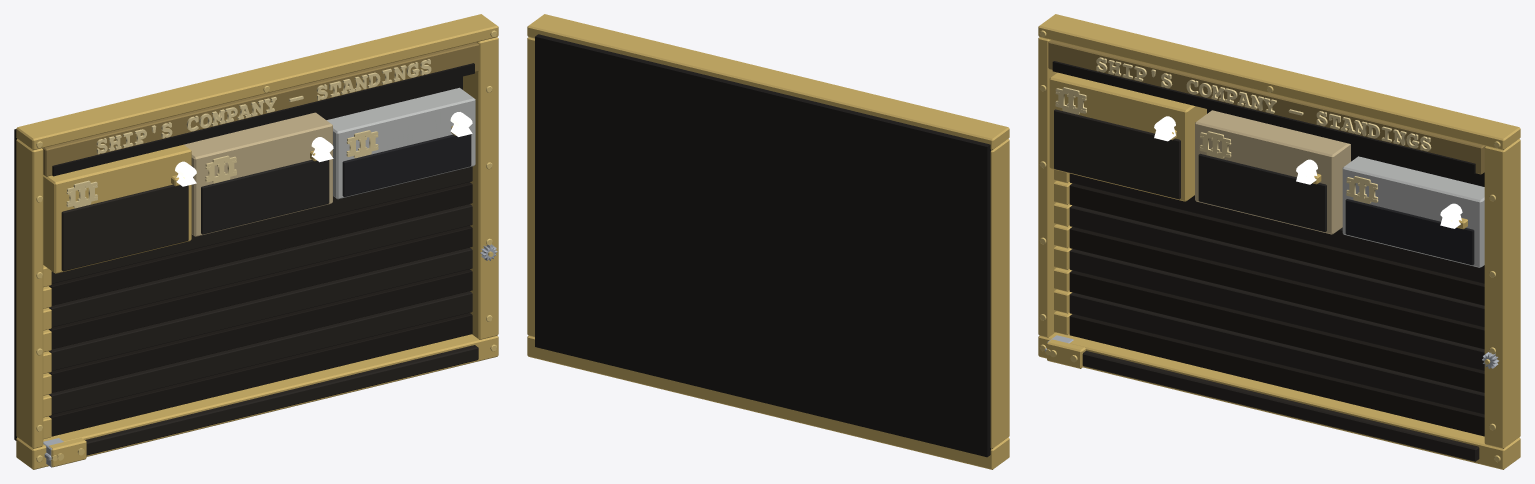
File: board.glb
3 renders of one model, left to right at view 1: azimuth 30°, elevation 25°; view 2: azimuth 150°, elevation 25°; view 3: azimuth 330°, elevation 25°, orthographic.
Parts seen in each view (by area): view 1: frame_top, slat_05, slat_01, slat_03, slat_07, slat_02, slat_06, slat_04, frame_left, pod_bezel_1, frame_right, header_plate (+12 smaller); view 2: board_back, frame_top, frame_bottom, frame_left, frame_right; view 3: frame_top, frame_right, slat_01, slat_03, slat_07, slat_05, slat_02, slat_06, slat_04, pod_bezel_1, pod_step_2, header_plate (+12 smaller).
Part boxes in pixels (bbox=[...]): frame_top: bbox=[16, 14, 498, 150]; slat_05: bbox=[49, 269, 472, 392]; slat_01: bbox=[49, 182, 472, 305]; slat_03: bbox=[49, 225, 472, 349]; slat_07: bbox=[49, 313, 472, 436]; slat_02: bbox=[49, 204, 472, 327]; slat_06: bbox=[49, 291, 472, 414]; slat_04: bbox=[49, 247, 472, 370]; frame_left: bbox=[16, 139, 43, 448]; pod_bezel_1: bbox=[61, 184, 188, 271]; frame_right: bbox=[463, 37, 498, 339]; header_plate: bbox=[42, 42, 479, 176]; board_back: bbox=[535, 34, 991, 457]; frame_top: bbox=[527, 14, 1009, 150]; frame_bottom: bbox=[527, 336, 1009, 469]; frame_left: bbox=[990, 139, 1009, 448]; frame_right: bbox=[527, 37, 534, 337]; frame_top: bbox=[1038, 14, 1520, 150]; frame_right: bbox=[1484, 139, 1520, 448]; slat_01: bbox=[1069, 183, 1484, 305]; slat_03: bbox=[1069, 227, 1484, 349]; slat_07: bbox=[1069, 314, 1484, 436]; slat_05: bbox=[1069, 270, 1484, 392]; slat_02: bbox=[1069, 205, 1484, 327]; slat_06: bbox=[1069, 292, 1484, 414]; slat_04: bbox=[1069, 249, 1484, 370]; pod_bezel_1: bbox=[1054, 109, 1180, 199]; pod_step_2: bbox=[1195, 110, 1350, 234]; header_plate: bbox=[1048, 40, 1485, 174].
Bounding box in the file's own units: 0.4014 × 0.2723 × 0.056.
